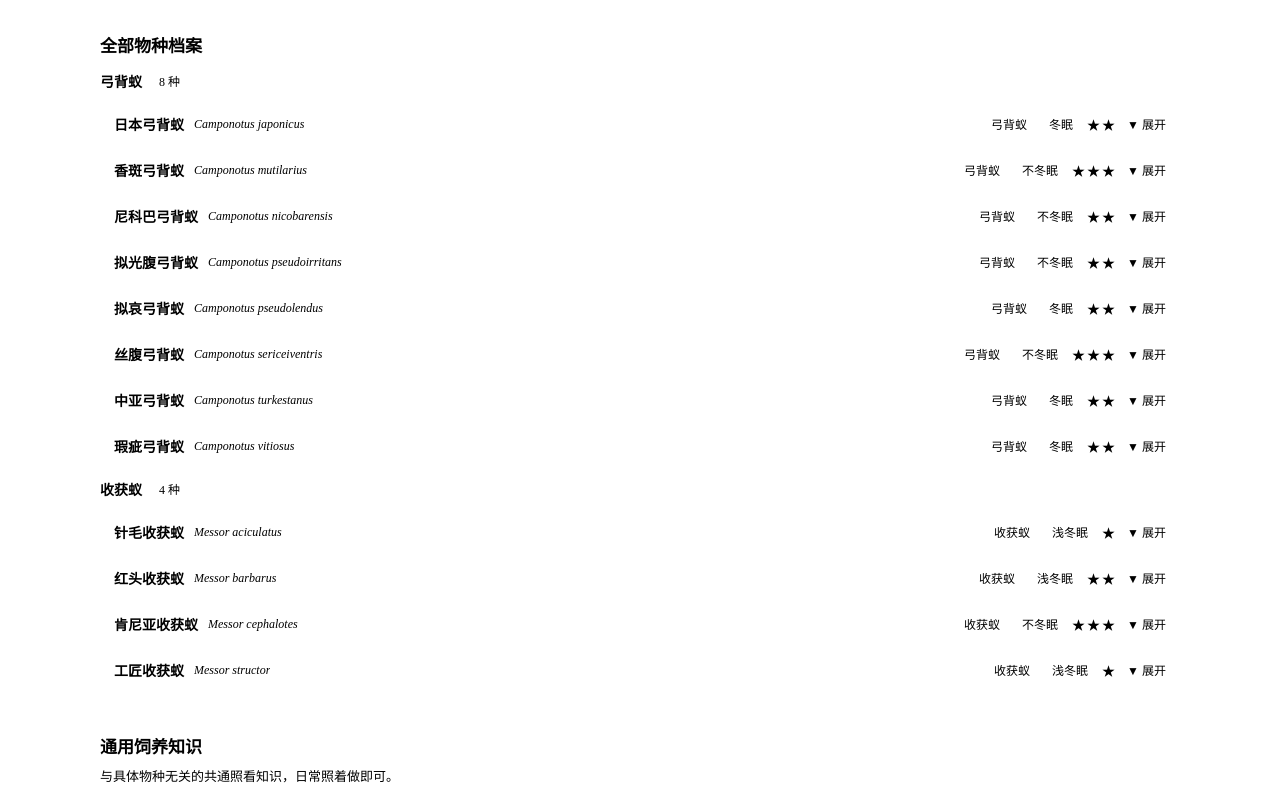
图鉴页 · 全部物种档案 › 购买提醒与 careNotes 逐条渲染
(page scrolled)
Click the button with class "sp-head" that starts with "中亚弓背蚁" at (149, 402), box [100,381,1180,419]
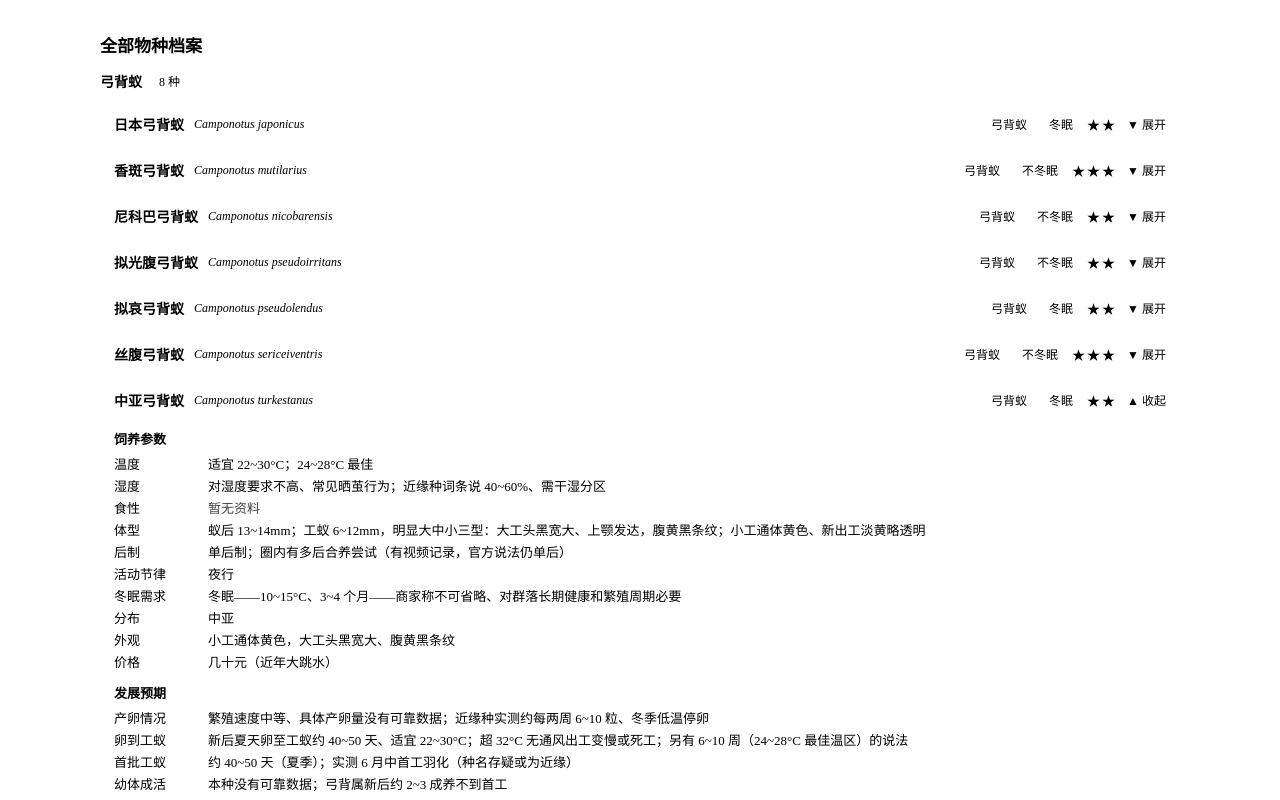
Click the button with class "sp-head" that starts with "拟哀弓背蚁" at (149, 310), box [100,289,1180,327]
(page scrolled)
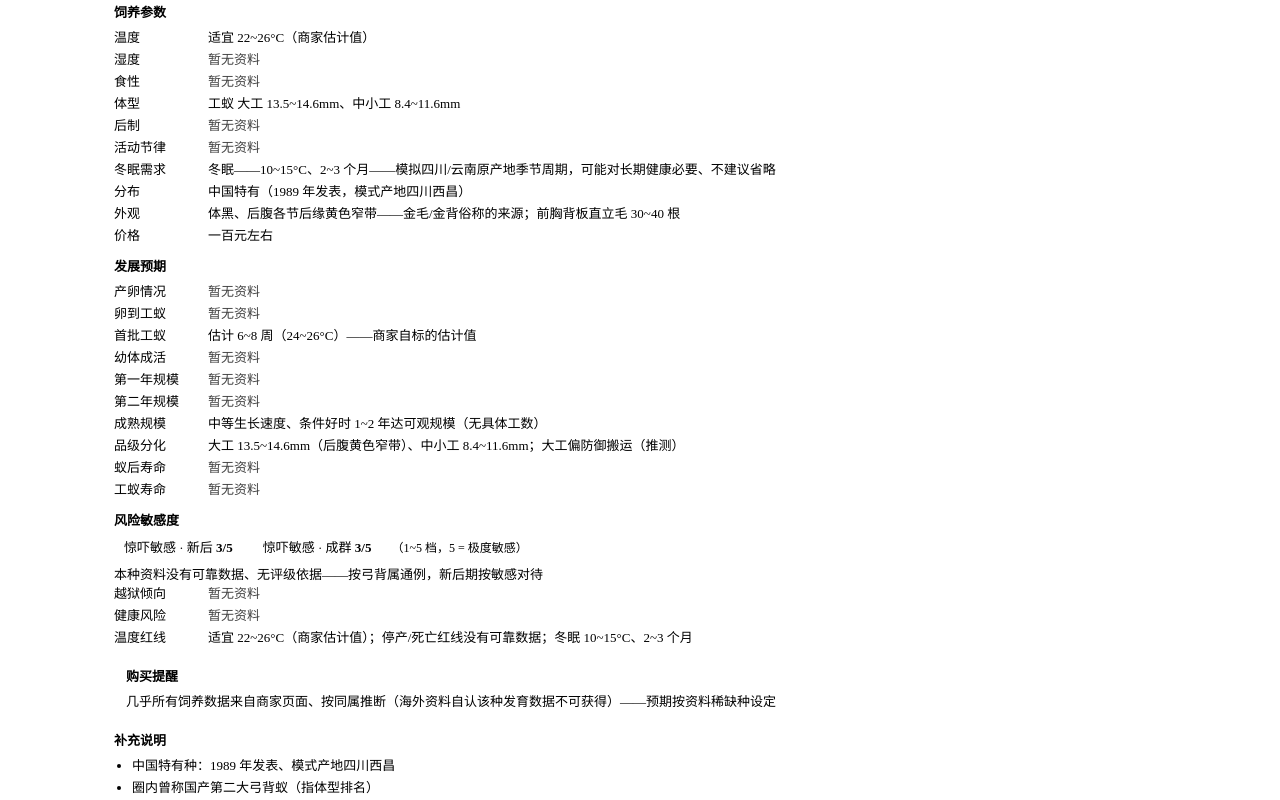
Result: the element with class "sp-detail" is shown at [114,5,776,795]
